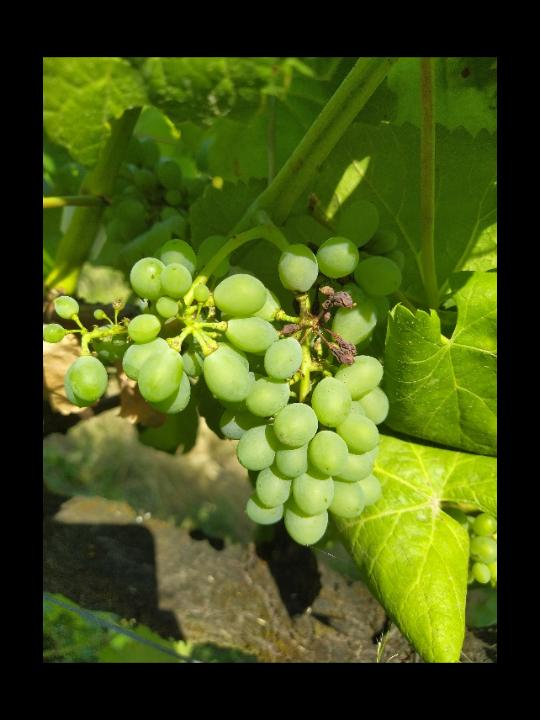grape: (45, 195, 411, 553)
